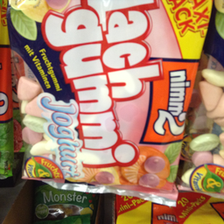candy: (10, 1, 210, 199)
